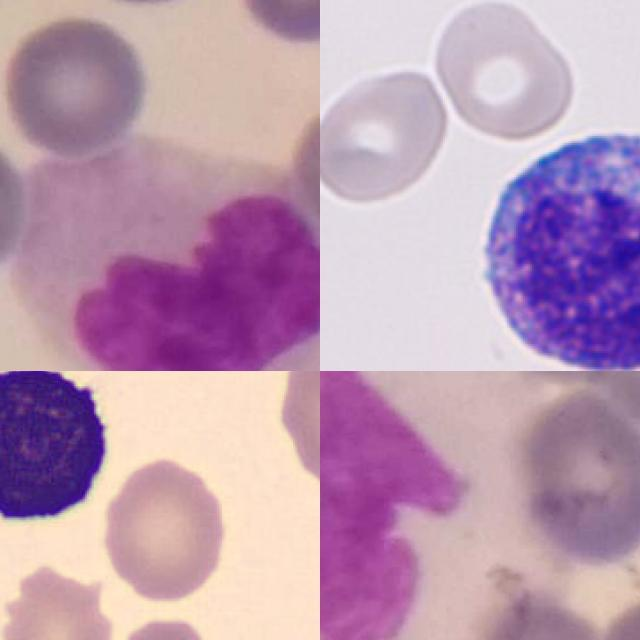Lymphocyte: (464, 113, 640, 371), (0, 371, 120, 541)
Monocyte: (20, 137, 320, 371), (320, 371, 567, 640)
RBC: (96, 450, 233, 608), (428, 0, 578, 141), (320, 63, 452, 205), (271, 371, 320, 525)
